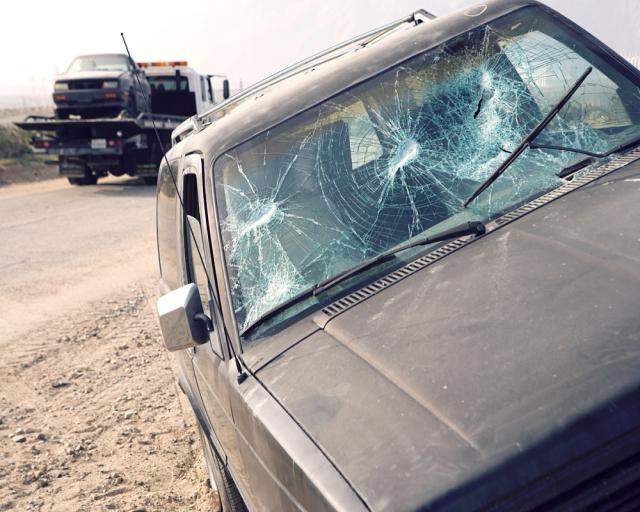glass shatter: (213, 6, 640, 343)
